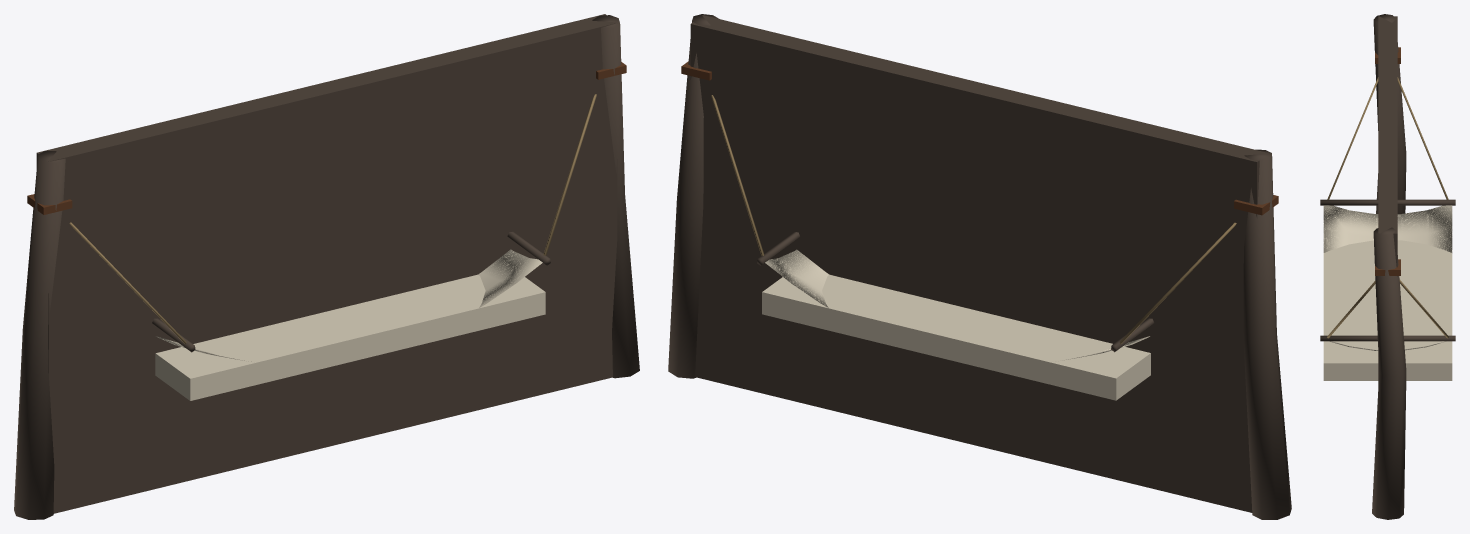
Rendered from homestead_hammock.glb.
The picture shows the model from 3 angles, left to right: view 1: azimuth 30°, elevation 25°; view 2: azimuth 150°, elevation 25°; view 3: azimuth 270°, elevation 25°; orthographic projection. The views are drawn at different scales.
Parts seen in each view (by area): view 1: HomesteadHammock_FarPosts, HomesteadHammock_FarBed, HomesteadHammock_Post-1, HomesteadHammock_Post1, HomesteadHammock_Canvas; view 2: HomesteadHammock_FarPosts, HomesteadHammock_FarBed, HomesteadHammock_Post-1, HomesteadHammock_Post1, HomesteadHammock_Canvas; view 3: HomesteadHammock_FarBed, HomesteadHammock_Post1, HomesteadHammock_FarPosts, HomesteadHammock_Canvas, HomesteadHammock_Post-1, HomesteadHammock_Spreader-1, HomesteadHammock_Spreader1, HomesteadHammock_Rope-10.38, HomesteadHammock_Rope-1-0.38, HomesteadHammock_Rope10.38, HomesteadHammock_Rope1-0.38, HomesteadHammock_Ring1.
Part boxes in pixels (x1,y1,x2,y2): HomesteadHammock_FarPosts: (36, 14, 617, 513); HomesteadHammock_FarBed: (155, 274, 545, 400); HomesteadHammock_Post-1: (14, 151, 65, 519); HomesteadHammock_Post1: (592, 15, 639, 378); HomesteadHammock_Canvas: (156, 249, 542, 361); HomesteadHammock_FarPosts: (690, 15, 1268, 512); HomesteadHammock_FarBed: (762, 274, 1150, 400); HomesteadHammock_Post-1: (1243, 149, 1291, 519); HomesteadHammock_Post1: (668, 14, 718, 378); HomesteadHammock_Canvas: (765, 249, 1149, 361); HomesteadHammock_FarBed: (1323, 240, 1452, 380); HomesteadHammock_Post1: (1372, 227, 1406, 519); HomesteadHammock_FarPosts: (1378, 16, 1397, 384); HomesteadHammock_Canvas: (1323, 205, 1452, 350); HomesteadHammock_Post-1: (1373, 14, 1406, 213); HomesteadHammock_Spreader-1: (1320, 199, 1455, 205); HomesteadHammock_Spreader1: (1320, 335, 1455, 341); HomesteadHammock_Rope-10.38: (1397, 77, 1448, 199); HomesteadHammock_Rope-1-0.38: (1327, 77, 1378, 199); HomesteadHammock_Rope10.38: (1399, 279, 1448, 338); HomesteadHammock_Rope1-0.38: (1327, 280, 1375, 338); HomesteadHammock_Ring1: (1375, 259, 1400, 275).
Size of the model in its own units: 3.5 by 1.91 by 0.84.
